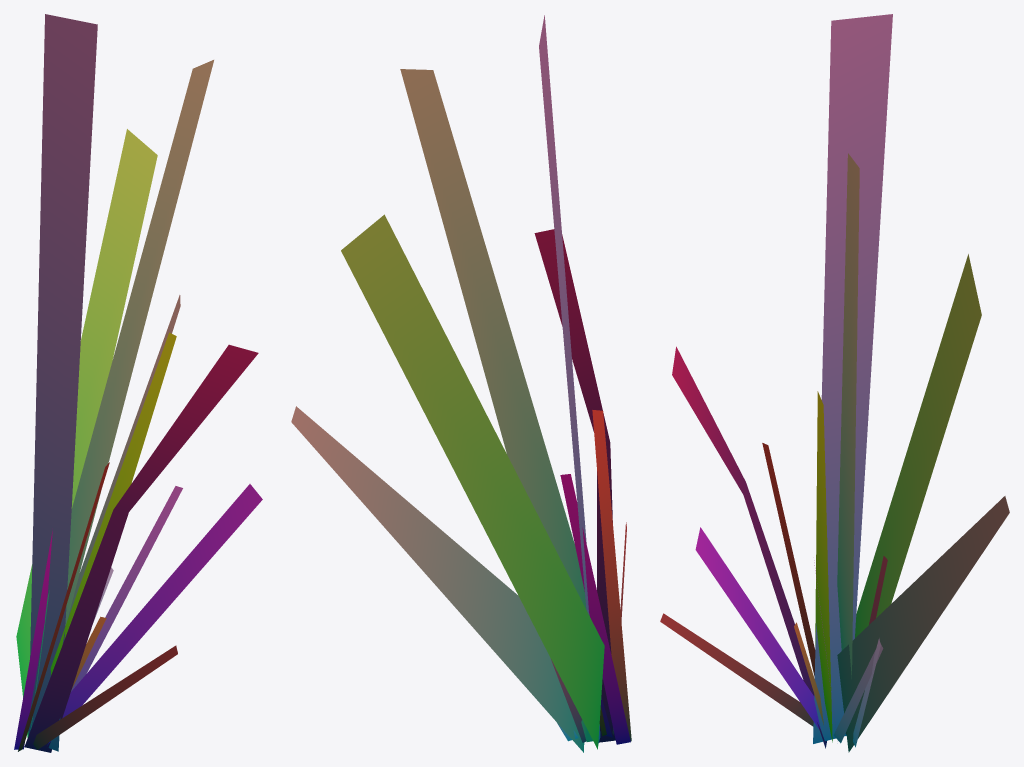
Rendered from Nordic_Coastal_Groundcover_vlqkdeaja_Mid_vlqkdeaja_VarO_LOD2.fbx.
The picture shows the model from 3 angles, left to right: view 1: azimuth 30°, elevation 25°; view 2: azimuth 150°, elevation 25°; view 3: azimuth 270°, elevation 25°; orthographic projection. The views are drawn at different scales.
Visible parts, largest first — view 1: _1hox_VarO_LOD4; view 2: _1hox_VarO_LOD4; view 3: _1hox_VarO_LOD4.
Part boxes in pixels (<box>): _1hox_VarO_LOD4: <box>14,14,262,752</box>; _1hox_VarO_LOD4: <box>291,15,631,752</box>; _1hox_VarO_LOD4: <box>660,14,1009,752</box>.
Size of the model in its own units: 29.62 by 80.51 by 33.73.
